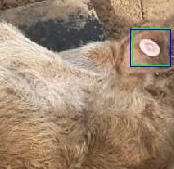text: (132, 28, 170, 65)
